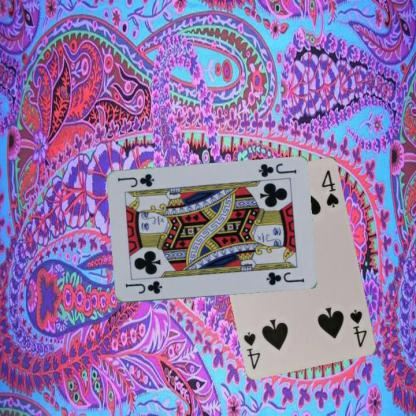4s: (347, 307, 369, 349)
Jc: (256, 160, 298, 178), (122, 278, 163, 296)
